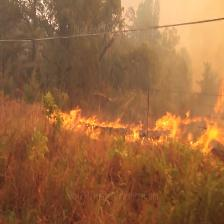fire: (43, 79, 224, 181)
nofire: (0, 131, 189, 224)
smoke: (114, 0, 224, 101)
